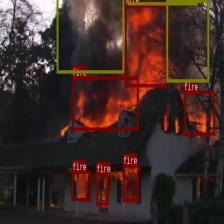fire: (72, 76, 138, 130), (125, 4, 167, 87), (183, 90, 214, 135), (122, 164, 139, 202), (72, 170, 90, 200), (96, 172, 108, 205)
smoke: (56, 0, 123, 72), (166, 0, 209, 82)
